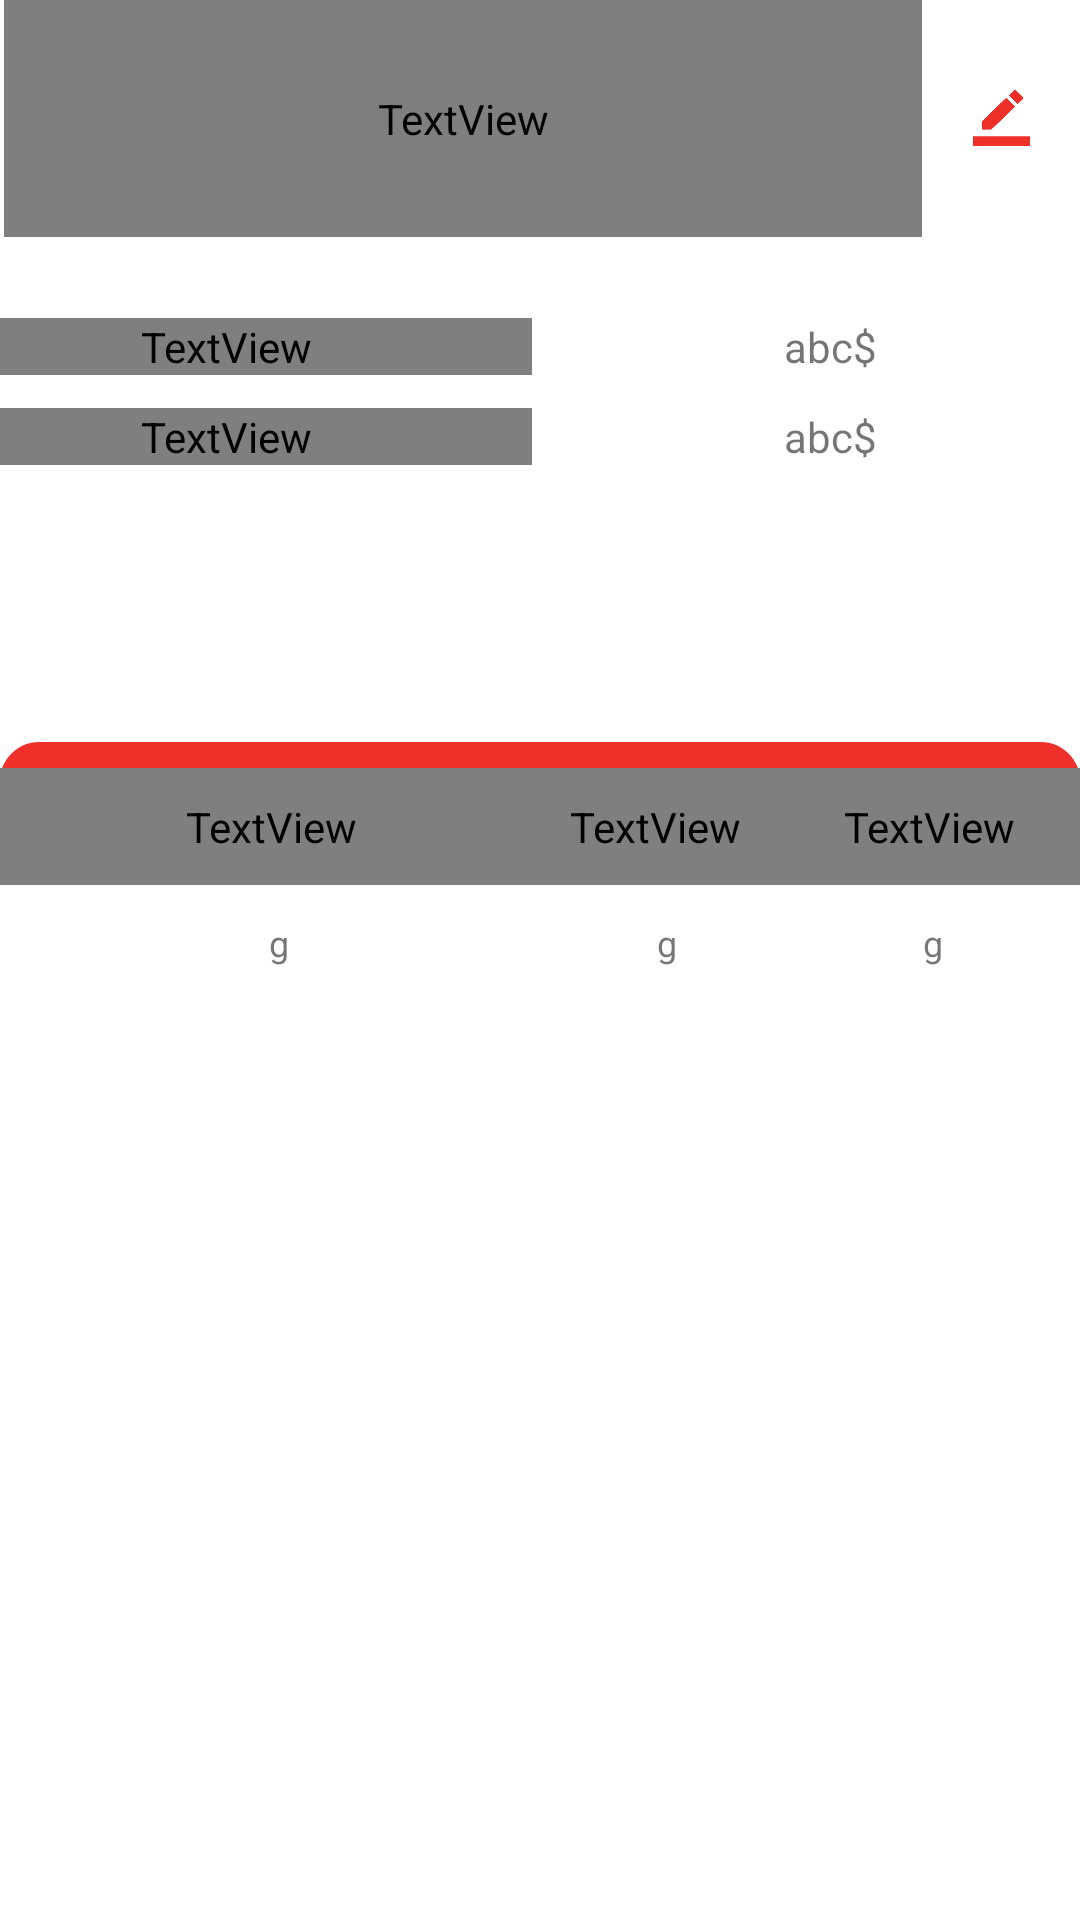

Named icons in this screenshot (1080*1920) and their bounding boxes, Rect(x1, y1, x2, y2):
change info: Rect(973, 90, 1030, 146)
